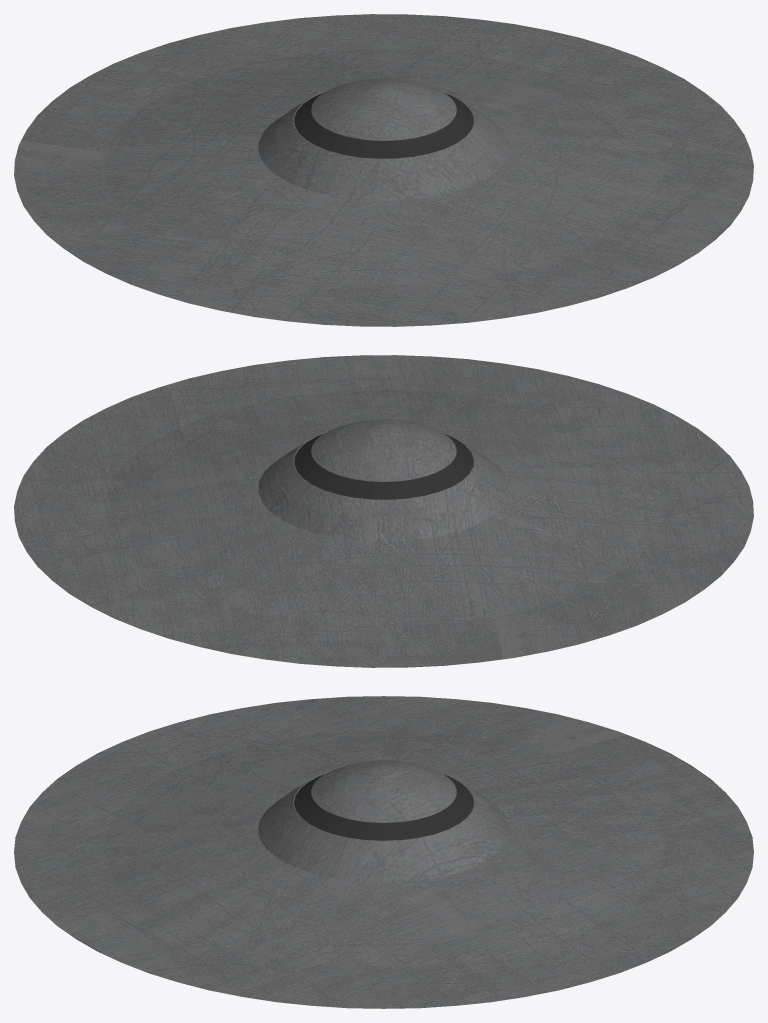
File: enemyship.obj
3 renders of one model, top to bottom at view 1: azimuth 30°, elevation 25°; view 2: azimuth 150°, elevation 25°; view 3: azimuth 270°, elevation 25°, orthographic.
Parts seen in each view (by area): view 1: Sphere; view 2: Sphere; view 3: Sphere.
Part boxes in pixels (<box>): Sphere: <box>14,14,753,326</box>; Sphere: <box>14,355,753,667</box>; Sphere: <box>14,696,753,1008</box>.
Bounding box in the file's own units: 5.76 × 0.9939 × 5.76.
1 material, 1 textured.
